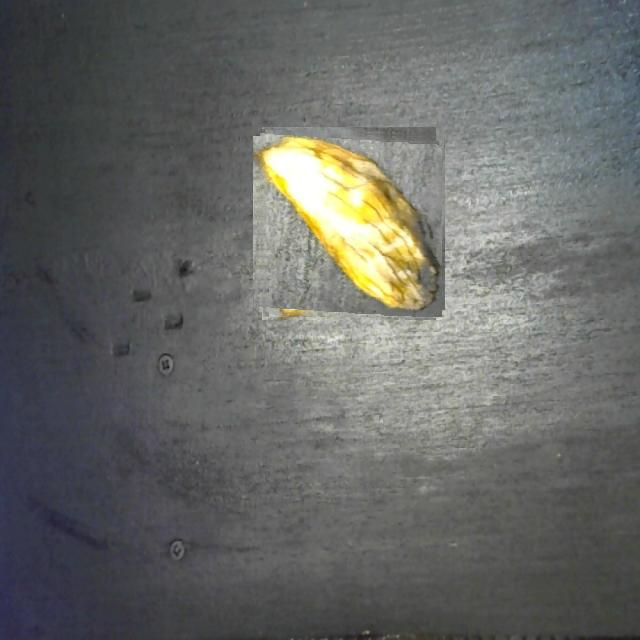biodegradable: (256, 130, 442, 317)
